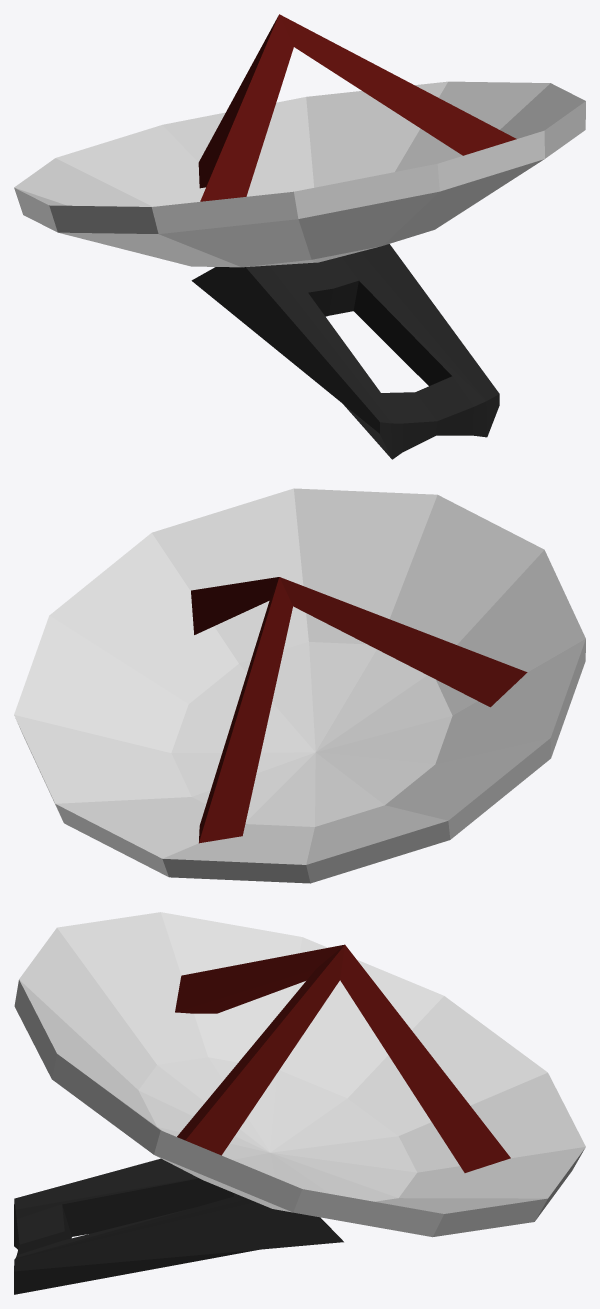
Rendered from laser_trap.FBX.
3 views of the same model, one above another, from view 1: azimuth 30°, elevation 25°; view 2: azimuth 150°, elevation 25°; view 3: azimuth 270°, elevation 25° (orthographic). The views are drawn at different scales.
Visible parts, largest first — view 1: laser_sattelite; view 2: laser_sattelite; view 3: laser_sattelite.
Boxes of the visible parts, x1,y1,x2,y2 form: laser_sattelite: (14,14,585,459); laser_sattelite: (14,488,585,883); laser_sattelite: (14,912,585,1294).
Bounding box in the file's own units: 80.07 × 48.38 × 76.8.
